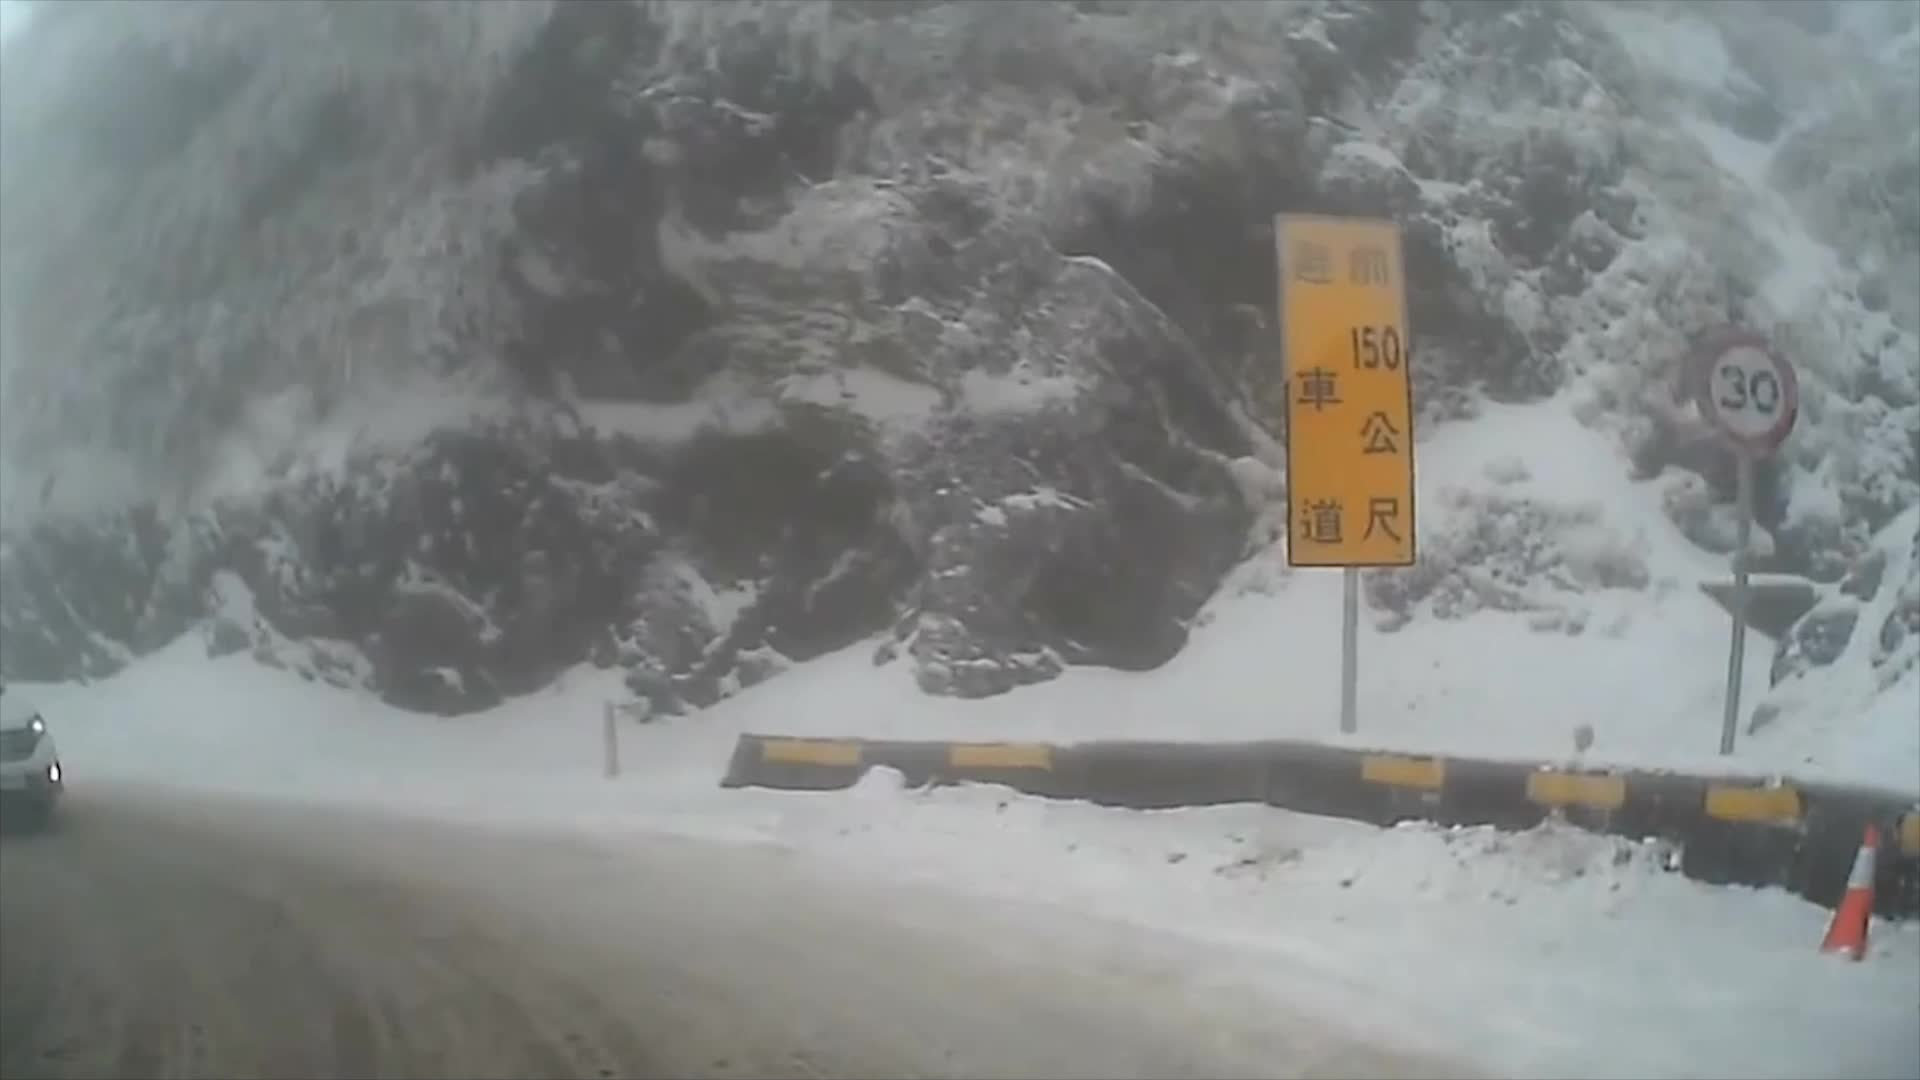vehicle: (0, 678, 65, 836)
